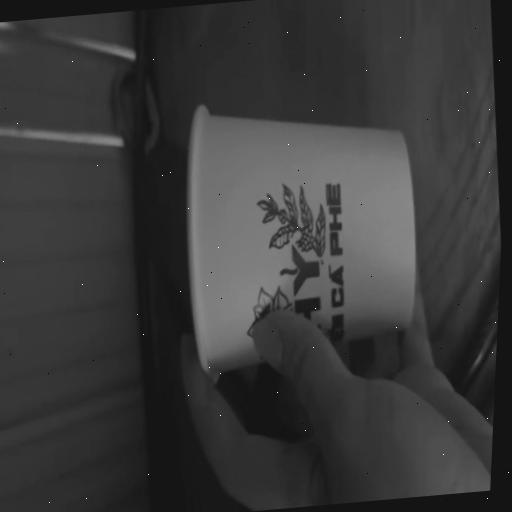Ly_giay: (187, 106, 415, 379)
